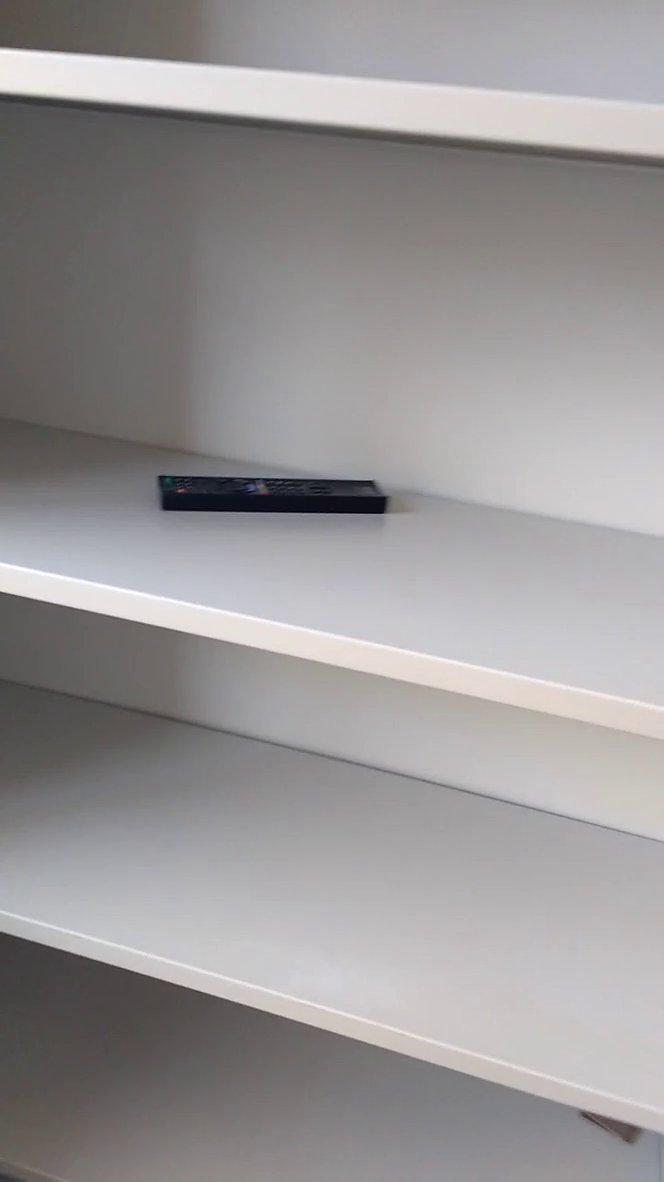remote: (138, 463, 393, 536)
